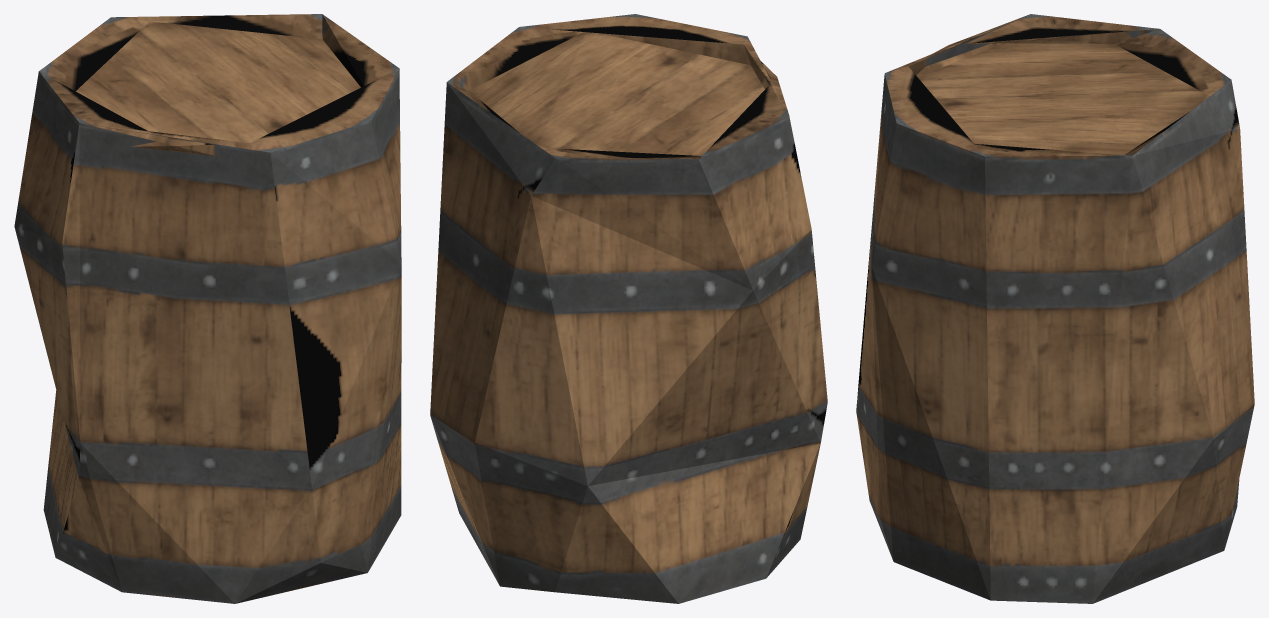
Rendered from barrel_lod2.glb.
3 views of the same model, side by side, from view 1: azimuth 30°, elevation 25°; view 2: azimuth 150°, elevation 25°; view 3: azimuth 270°, elevation 25° (orthographic).
Visible parts, largest first — view 1: geometry_0; view 2: geometry_0; view 3: geometry_0.
Boxes of the visible parts, x1=… form: geometry_0: x1=14, y1=14, x2=401, y2=603; geometry_0: x1=430, y1=14, x2=827, y2=603; geometry_0: x1=856, y1=14, x2=1254, y2=603.
Size of the model in its own units: 0.792 by 1.07 by 0.8643.
Materials: 1 (1 with a texture image).
